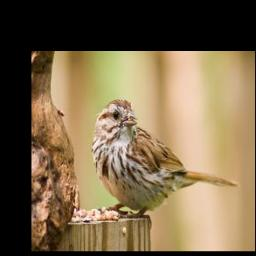Sparrow: (91, 97, 239, 230)
